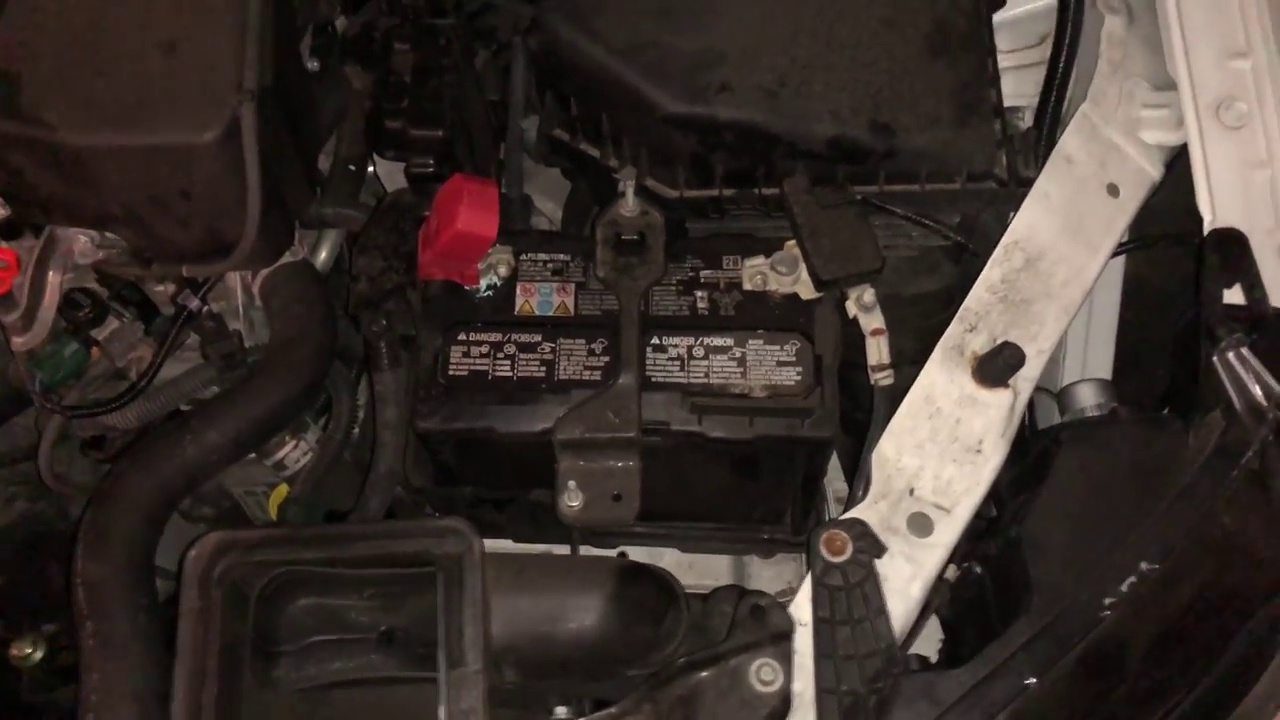battery: (416, 189, 866, 456)
neg_connected: (718, 230, 831, 316)
pos_connected: (422, 175, 526, 306)
